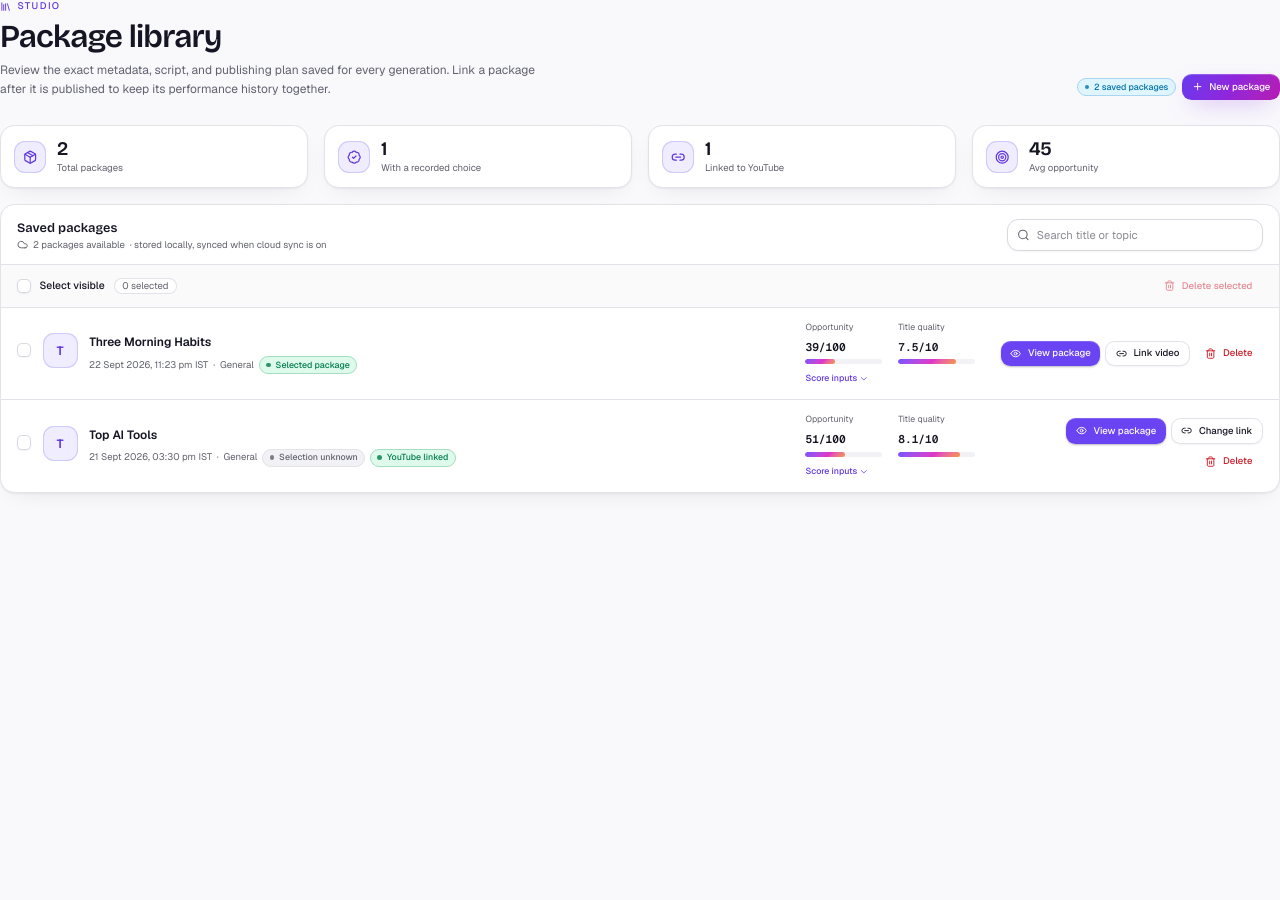
it: HistoryPage › says a linked video's collected evidence is deleted with its package
Check: the button "Top AI Tools" is shown, box [89,426,157,444]
Click the button with aria-label "Delete Top AI Tools" at coordinates (1229, 461), box [1195,449,1263,474]
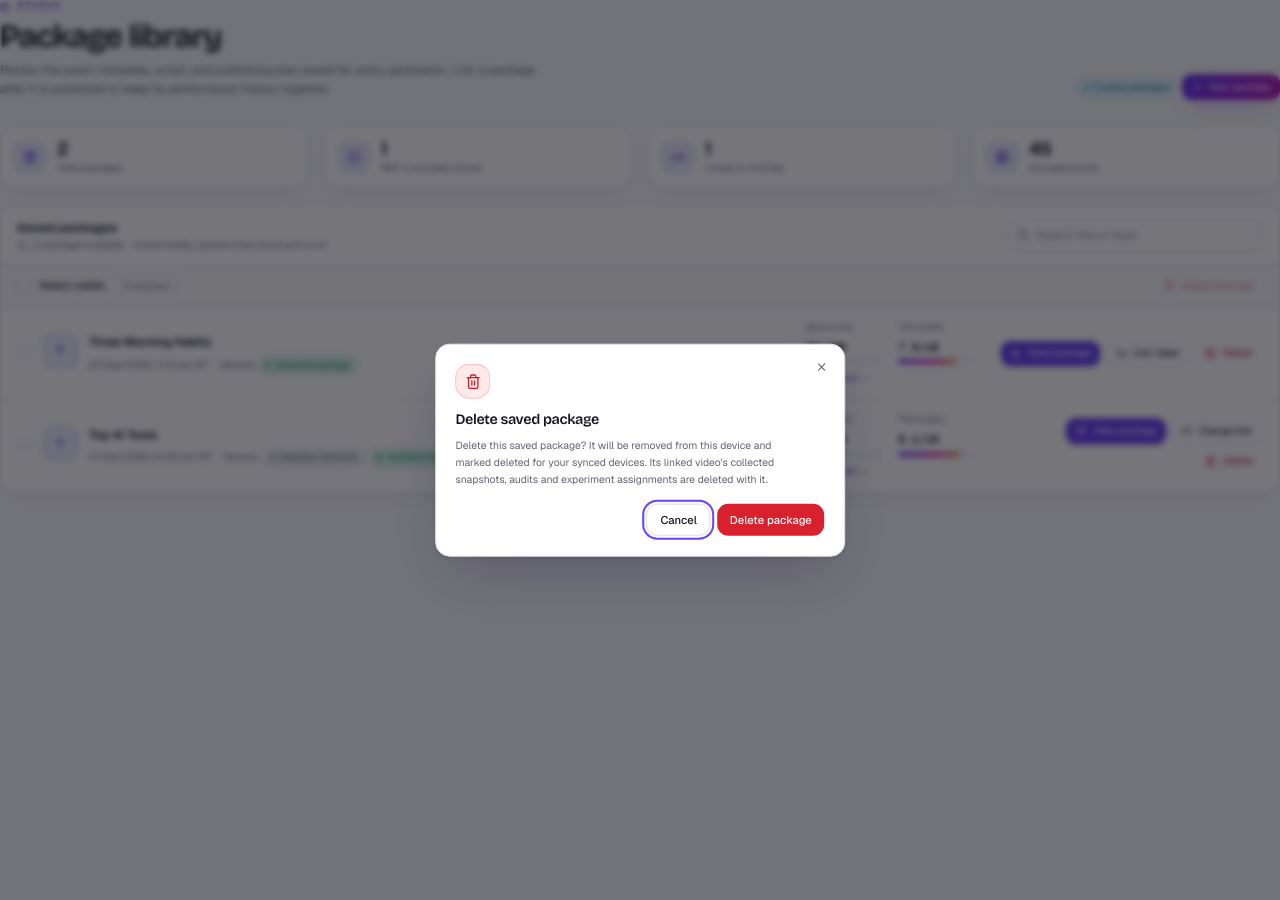
Check: the text "linked video's collected snapshots, audits and experiment assignments are deleted with it" is shown, box [455,438,774,485]
